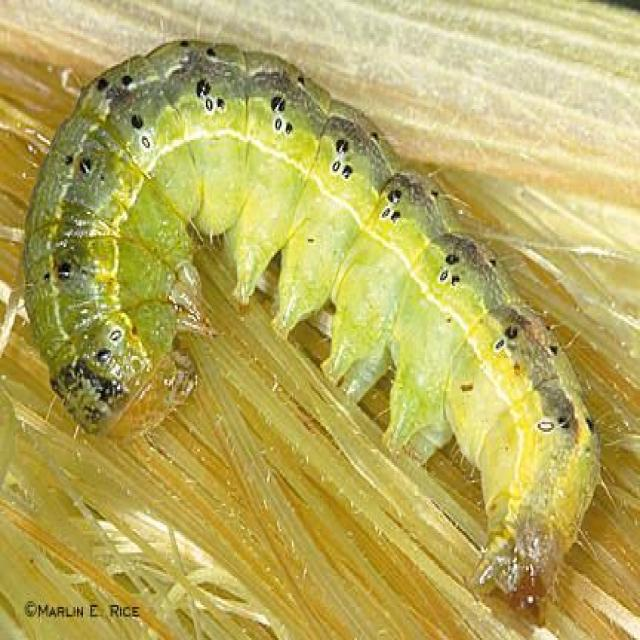worm: (15, 36, 609, 631)
